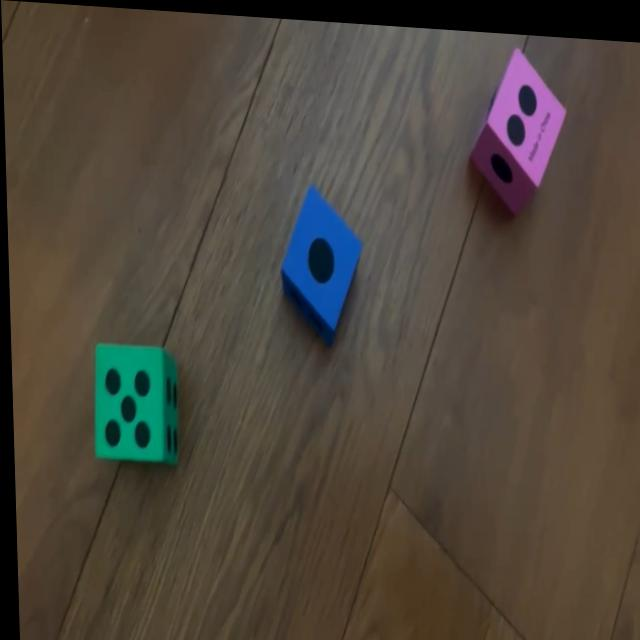blue_block: (278, 176, 361, 335)
